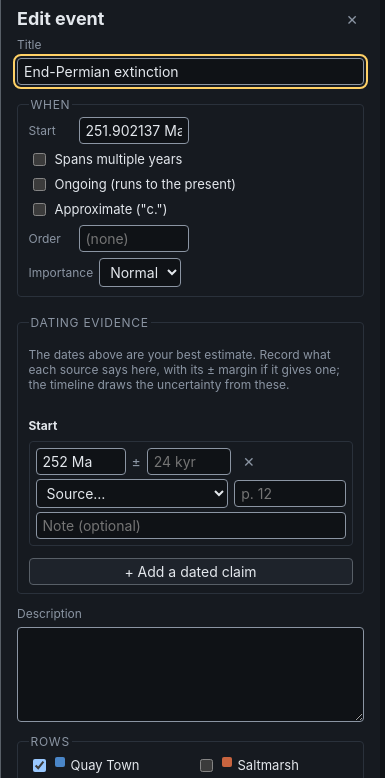
deep-time event editor › a claim margin that disagrees with a ± typed in its date is an error; agreeing or one alone is fine
Later steps or results of the test are not shown.
Replace the text in the field named "Date" with "252 Ma ± 1 Ma": (80, 461) left=36, top=448, right=126, bottom=474
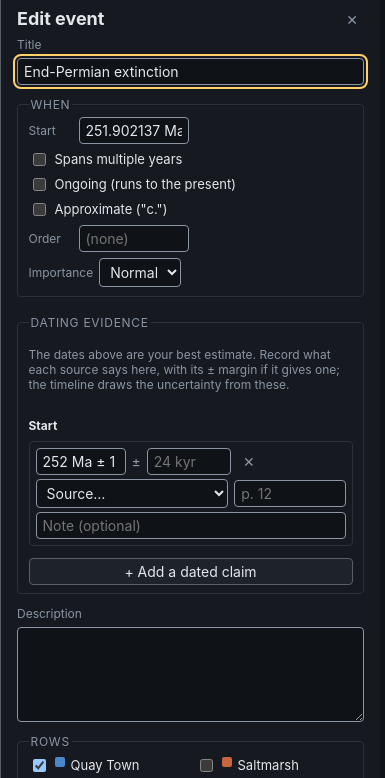
In the field named "Margin": (189, 461) left=147, top=448, right=231, bottom=474, type "0.5 Myr"
(page scrolled)
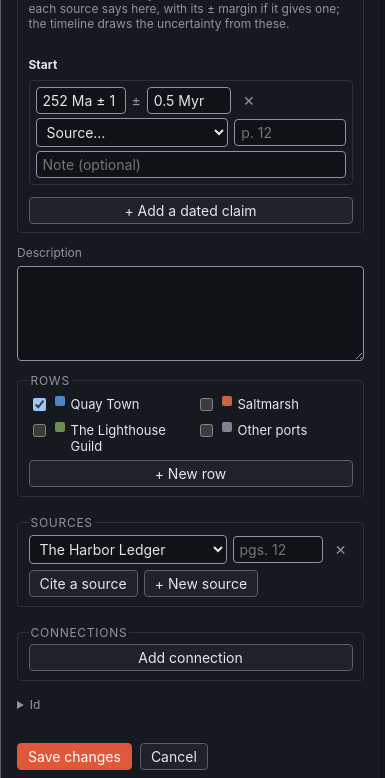
Click the button "Save changes": (74, 757) left=17, top=743, right=132, bottom=770
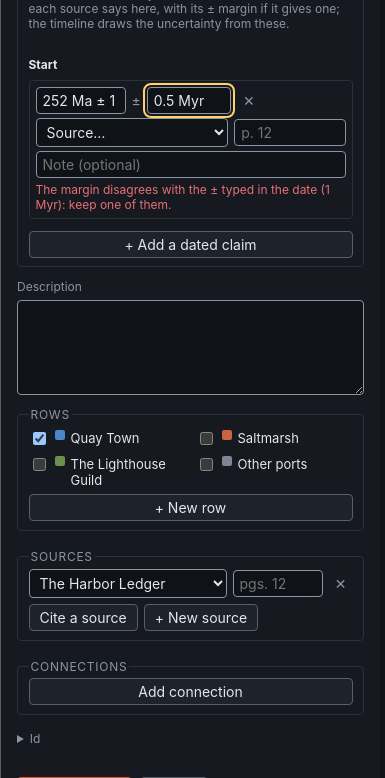
Expected: the message shows "disagrees with the ± typed", left=36, top=182, right=330, bottom=212
